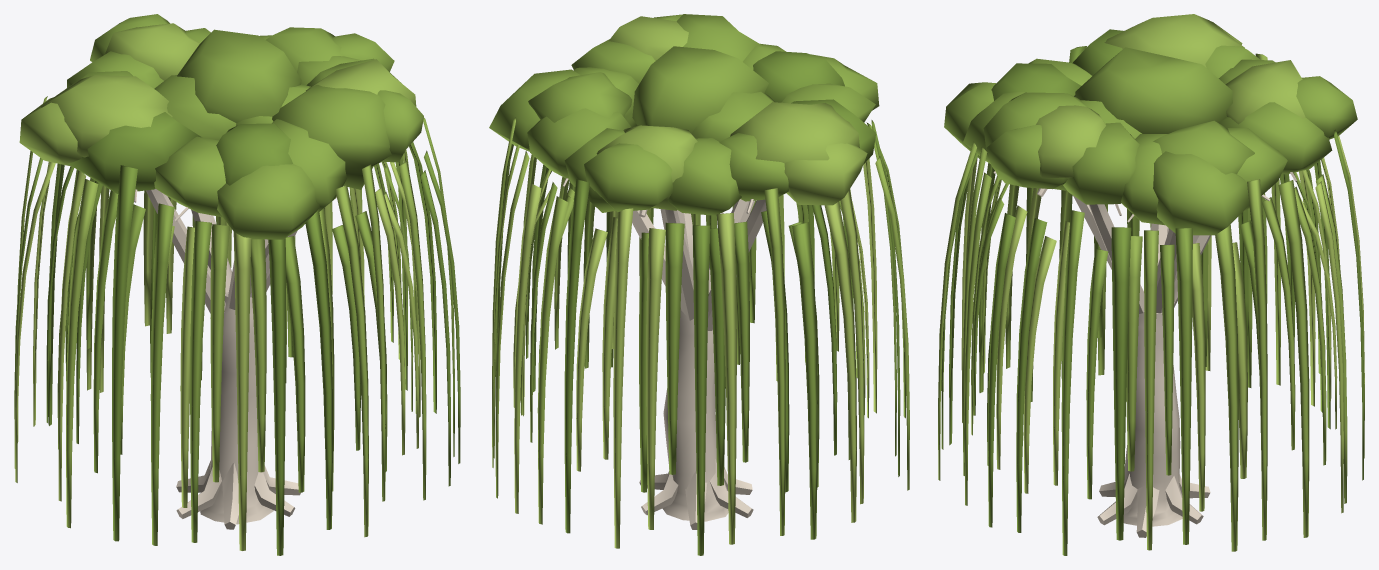
File: willow.glb
3 renders of one model, left to right at view 1: azimuth 30°, elevation 25°; view 2: azimuth 150°, elevation 25°; view 3: azimuth 270°, elevation 25°, orthographic. The views are drawn at different scales.
Visible parts, largest first — view 1: willow; view 2: willow; view 3: willow.
Part boxes in pixels (x1,y1,x2,y2): willow: (14, 14, 460, 555); willow: (489, 14, 909, 555); willow: (938, 14, 1364, 555).
Size of the model in its own units: 5.06 by 5.8 by 4.96.
